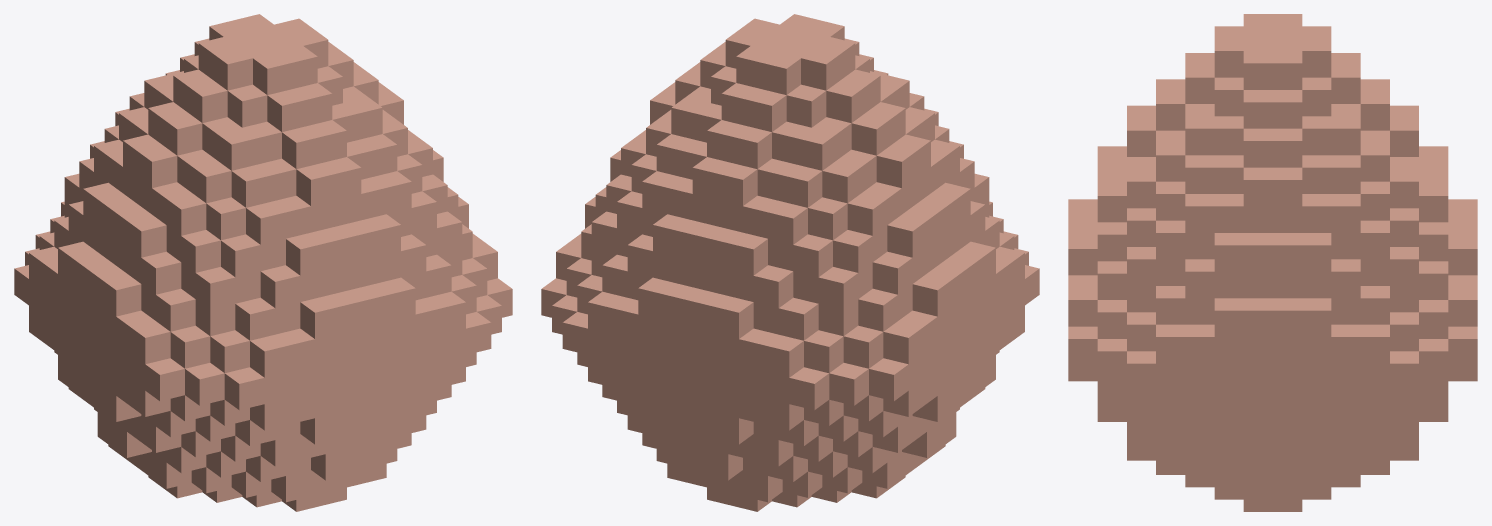
Rendered from Egg.gltf.
The picture shows the model from 3 angles, left to right: view 1: azimuth 30°, elevation 25°; view 2: azimuth 150°, elevation 25°; view 3: azimuth 270°, elevation 25°; orthographic projection.
Parts seen in each view (by area): view 1: Layer.1; view 2: Layer.1; view 3: Layer.1.
Part boxes in pixels (<box>): Layer.1: <box>14,14,512,511</box>; Layer.1: <box>541,14,1039,511</box>; Layer.1: <box>1068,14,1477,511</box>.
Size of the model in its own units: 14 by 16 by 14.
